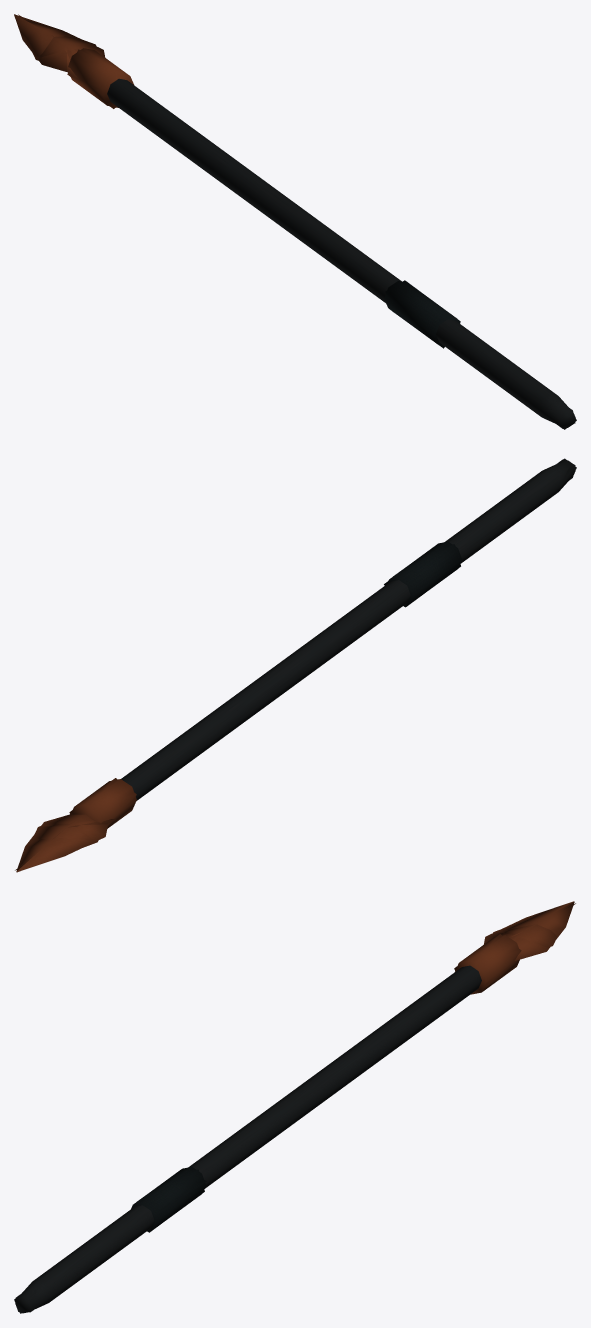
The picture shows the model from 3 angles, top to bottom: view 1: azimuth 30°, elevation 25°; view 2: azimuth 150°, elevation 25°; view 3: azimuth 330°, elevation 25°; orthographic projection.
Parts seen in each view (by area): view 1: body_lod1, body_lod2, body_lod3; view 2: body_lod1, body_lod2, body_lod3; view 3: body_lod1, body_lod2, body_lod3.
Part boxes in pixels (box(x1,y1,x2,y2)): body_lod1: box(14, 14, 575, 427); body_lod2: box(32, 36, 575, 428); body_lod3: box(18, 14, 576, 429); body_lod1: box(16, 460, 575, 872); body_lod2: box(33, 459, 575, 846); body_lod3: box(15, 458, 576, 870); body_lod1: box(15, 901, 574, 1313); body_lod2: box(15, 924, 557, 1312); body_lod3: box(14, 903, 575, 1313).
Size of the model in its own units: 11 by 5.8 by 171.
